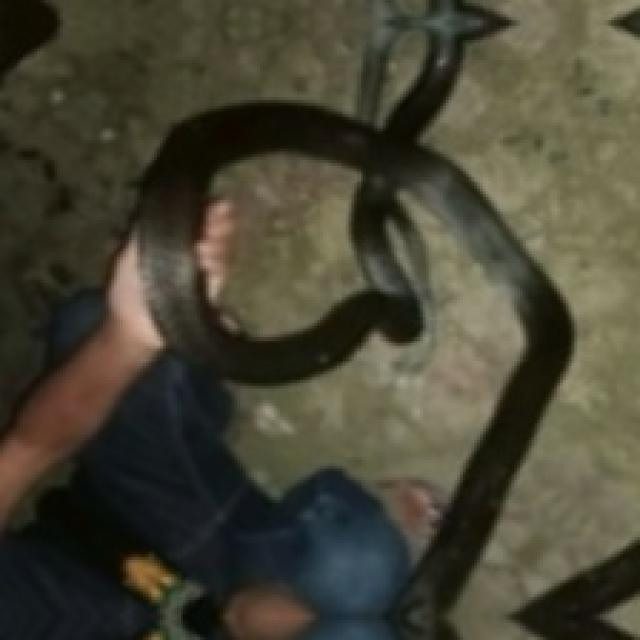king cobra: (134, 0, 571, 637), (194, 151, 369, 337)
